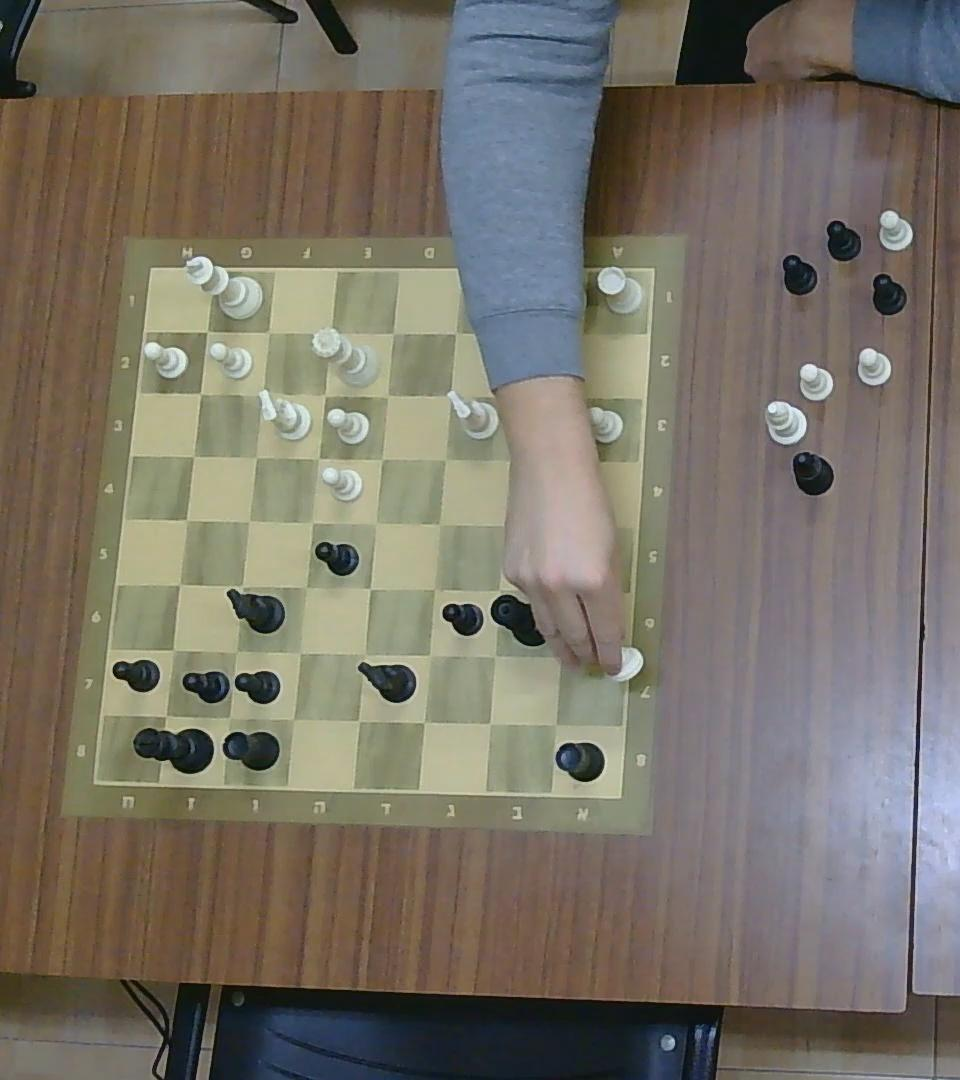xcorner: (496, 384, 526, 415), (215, 702, 241, 731), (546, 643, 572, 672), (563, 381, 588, 411), (542, 710, 569, 737), (477, 708, 503, 736), (280, 704, 305, 733), (556, 513, 581, 542), (161, 635, 185, 664), (568, 317, 592, 346), (153, 702, 179, 728), (167, 570, 192, 597), (346, 707, 371, 734), (550, 575, 575, 602), (287, 639, 311, 666), (563, 448, 586, 476), (503, 318, 526, 346), (411, 709, 436, 734), (351, 640, 376, 665), (498, 446, 523, 471), (223, 638, 247, 664), (229, 572, 253, 598), (444, 319, 468, 345), (318, 319, 342, 345), (174, 507, 198, 532), (482, 642, 506, 667), (382, 319, 405, 345), (437, 381, 461, 405), (236, 507, 259, 532), (294, 574, 317, 599), (419, 642, 442, 667), (181, 443, 204, 467), (245, 445, 268, 469), (300, 509, 323, 533), (306, 445, 329, 469), (257, 320, 280, 344), (490, 512, 513, 536), (486, 577, 510, 600), (196, 318, 218, 343), (364, 511, 387, 534), (376, 383, 399, 406), (421, 577, 444, 600), (188, 381, 210, 405), (251, 381, 273, 405), (433, 447, 455, 470), (371, 447, 393, 470), (359, 577, 381, 600), (427, 513, 450, 535), (315, 383, 335, 405)
